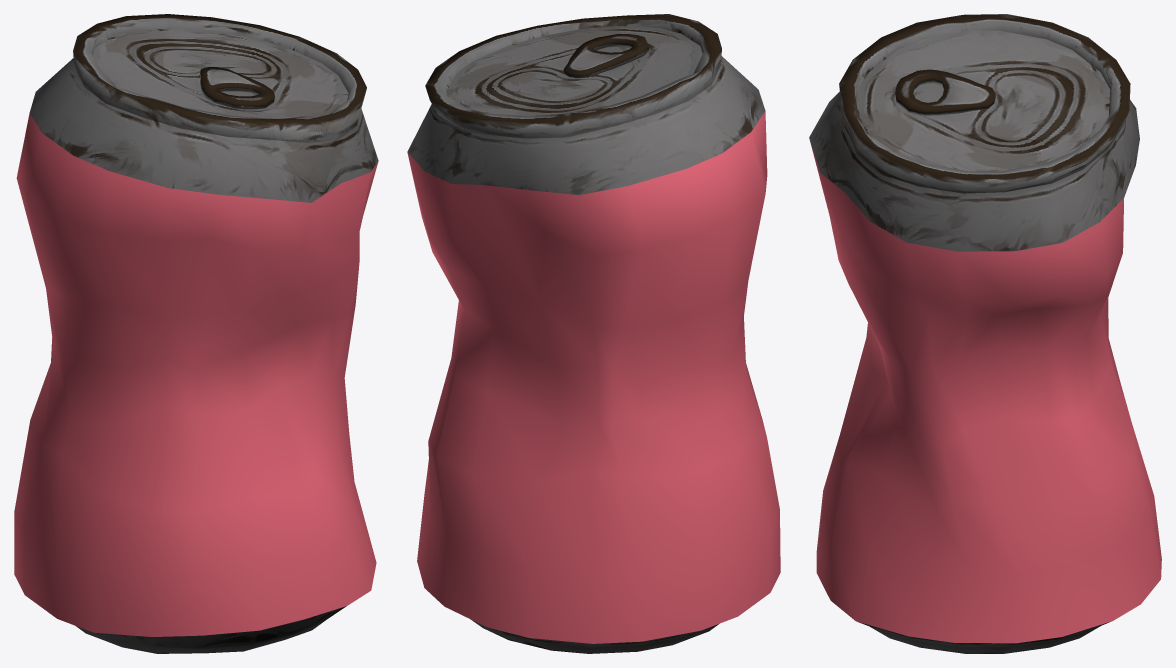
The model's file is low_banki2.fbx.
The picture shows the model from 3 angles, left to right: view 1: azimuth 30°, elevation 25°; view 2: azimuth 150°, elevation 25°; view 3: azimuth 270°, elevation 25°; orthographic projection. The views are drawn at different scales.
Parts seen in each view (by area): view 1: banka_ver2; view 2: banka_ver2; view 3: banka_ver2.
Part boxes in pixels (x1,y1,x2,y2): banka_ver2: (14, 14, 378, 653); banka_ver2: (407, 14, 780, 653); banka_ver2: (809, 14, 1161, 653).
Size of the model in its own units: 40.78 by 40.06 by 66.9.
Materials: 2 (1 with a texture image).
